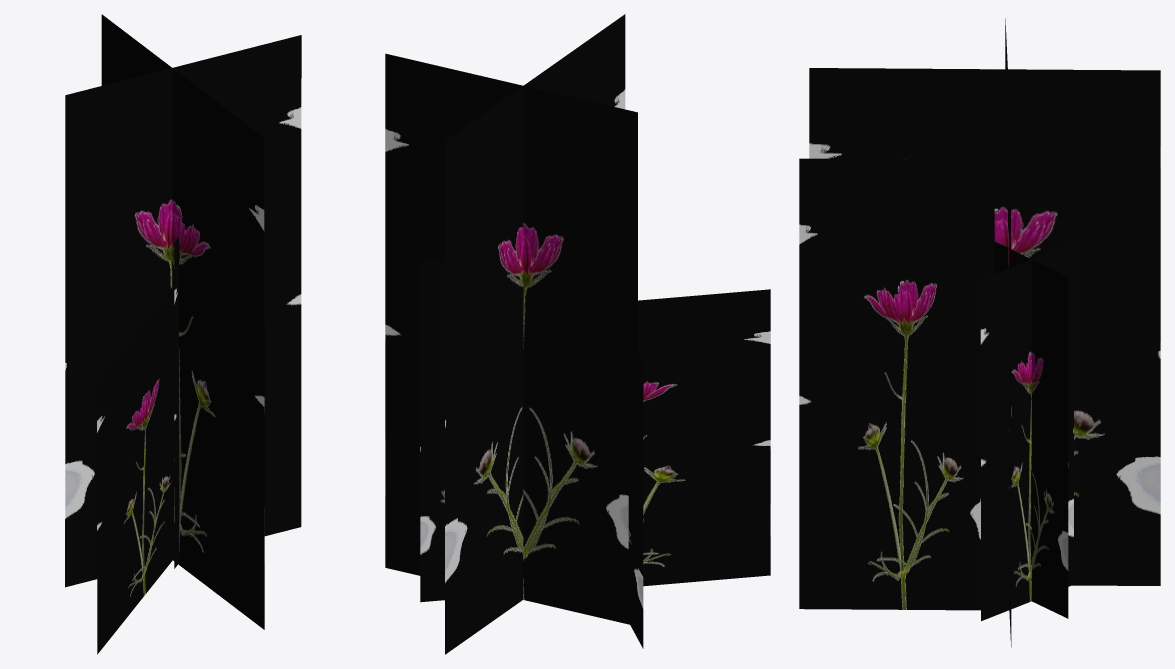
Rendered from FLOWER-1.fbx.
3 views of the same model, side by side, from view 1: azimuth 30°, elevation 25°; view 2: azimuth 150°, elevation 25°; view 3: azimuth 270°, elevation 25° (orthographic). The views are drawn at different scales.
Visible parts, largest first — view 1: FLOWER-1; view 2: FLOWER-1; view 3: FLOWER-1.
Part boxes in pixels (left/top/right/bottom): FLOWER-1: left=65, top=14, right=301, bottom=654; FLOWER-1: left=385, top=14, right=770, bottom=654; FLOWER-1: left=799, top=18, right=1160, bottom=647.
Bounding box in the file's own units: 447 × 714 × 454.
1 material, 1 textured.
